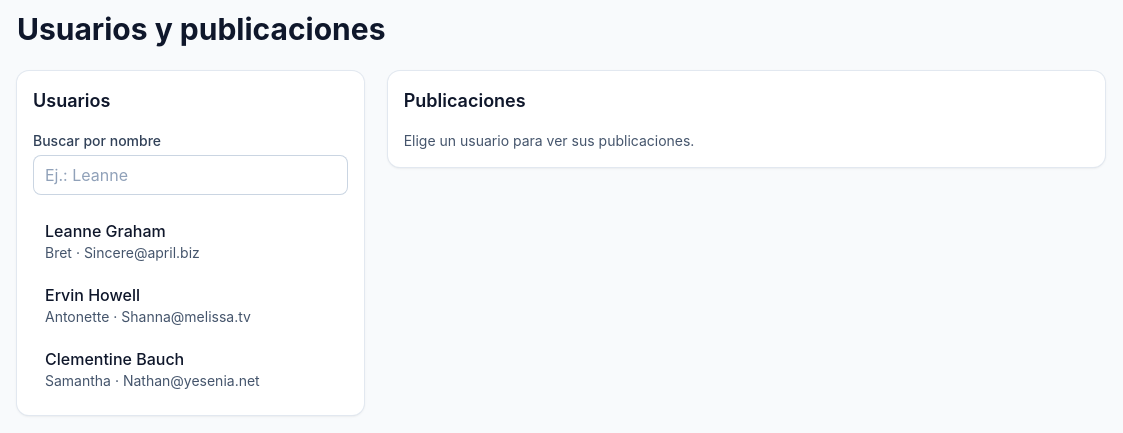
it: user search › filters users by name and restores them when cleared
Expected: the text "Leanne Graham" is shown, [45,221,166,241]
Type "lea" into the search field labelled "Buscar por nombre".
click(190, 175); type("lea")  # box [33,155,348,195]
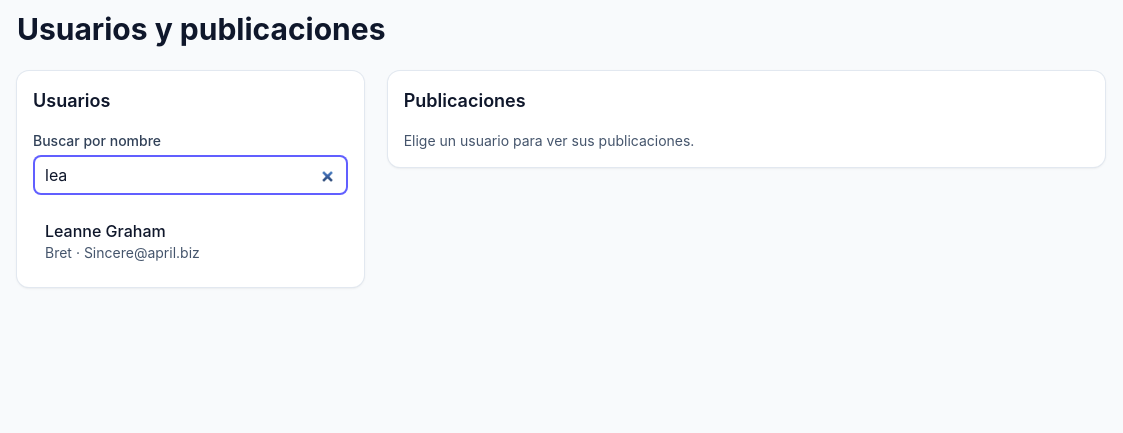
Expected: the text "Leanne Graham" is shown, [45,221,166,241]
Expected: the button "Ervin Howell" is gone
Clear the search field labelled "Buscar por nombre" at {"x": 190, "y": 175}, box [33,155,348,195]
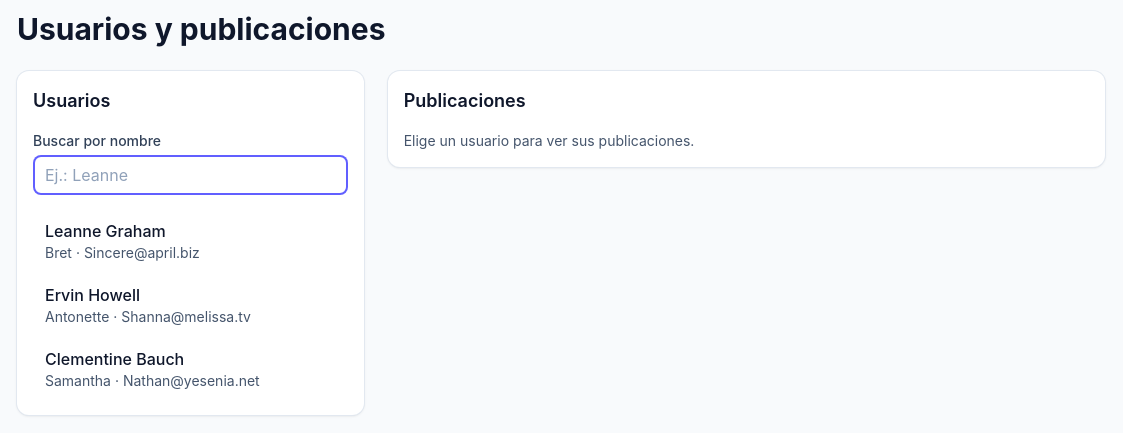
Expected: the text "Leanne Graham" is shown, [45,221,166,241]
Expected: the text "Ervin Howell" is shown, [45,285,140,305]
Expected: the text "Clementine Bauch" is shown, [45,349,184,369]
